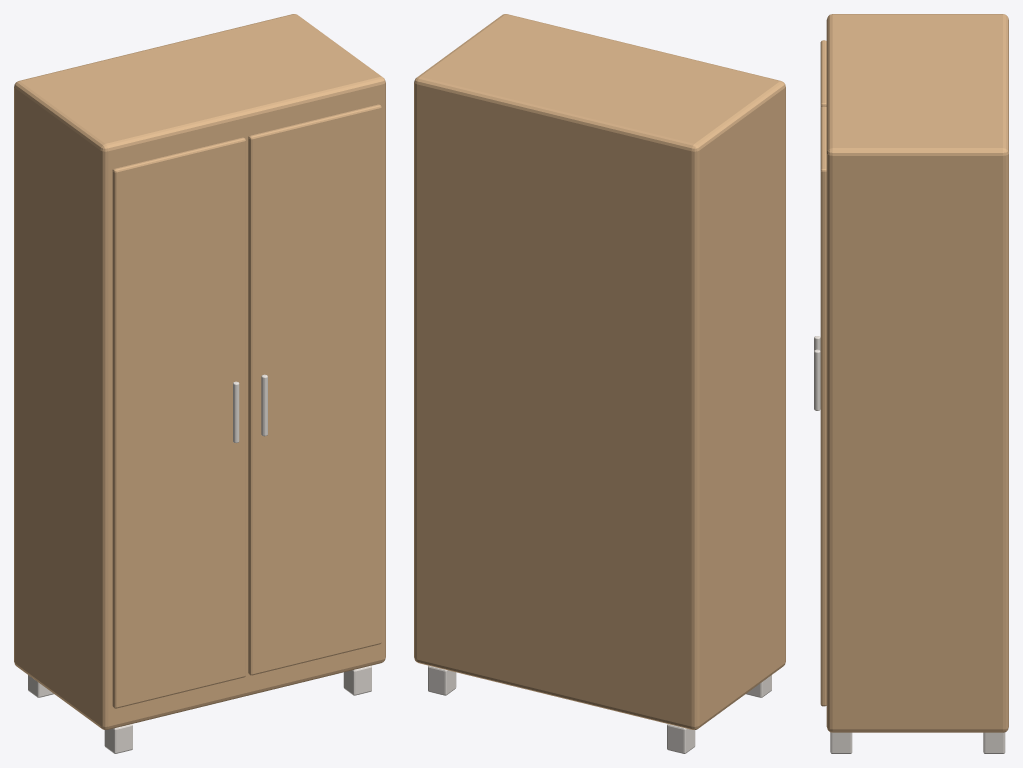
The model's file is doors__entries___window_views_asset_sheet_17.glb.
3 renders of one model, left to right at view 1: azimuth 30°, elevation 25°; view 2: azimuth 150°, elevation 25°; view 3: azimuth 270°, elevation 25°, orthographic.
Visible parts, largest first — view 1: Cube; view 2: Cube; view 3: Cube.
Boxes of the visible parts, left/top/right/bottom form: Cube: left=14, top=14, right=385, bottom=753; Cube: left=414, top=14, right=785, bottom=753; Cube: left=814, top=14, right=1008, bottom=753.
Bounding box in the file's own units: 0.9 × 1.85 × 0.535.
